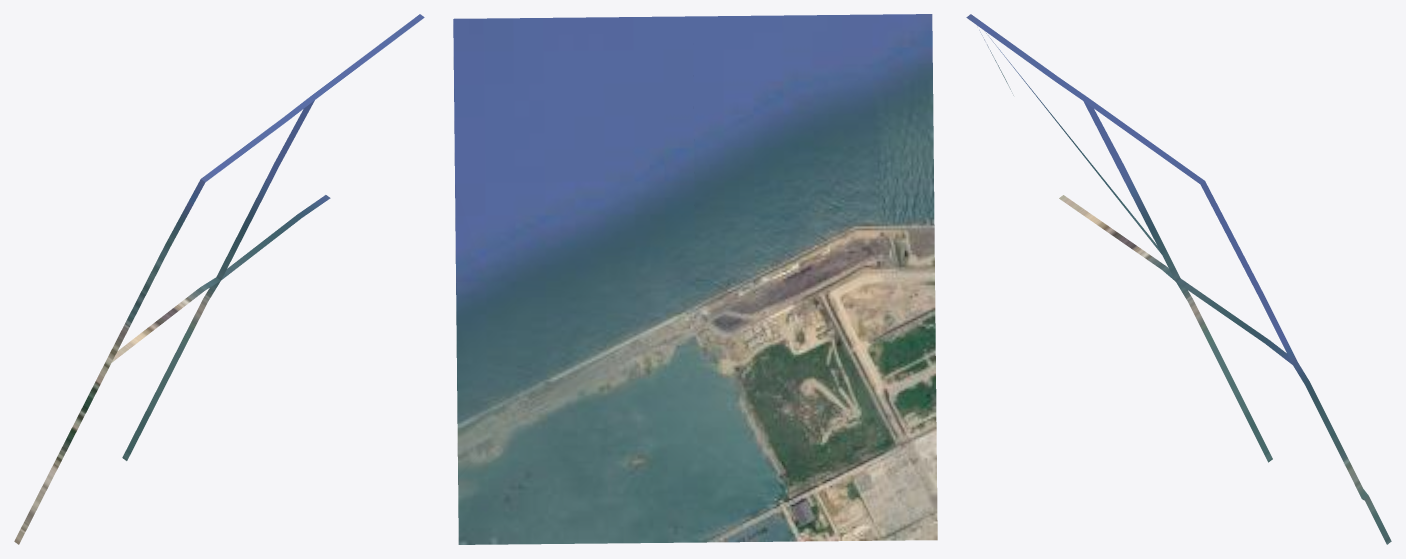
3 views of the same model, side by side, from view 1: azimuth 30°, elevation 25°; view 2: azimuth 150°, elevation 25°; view 3: azimuth 270°, elevation 25° (orthographic). The views are drawn at different scales.
Bounding box in the file's own units: 2460 × 2213 × 2069.
Materials: 1 (1 with a texture image).
